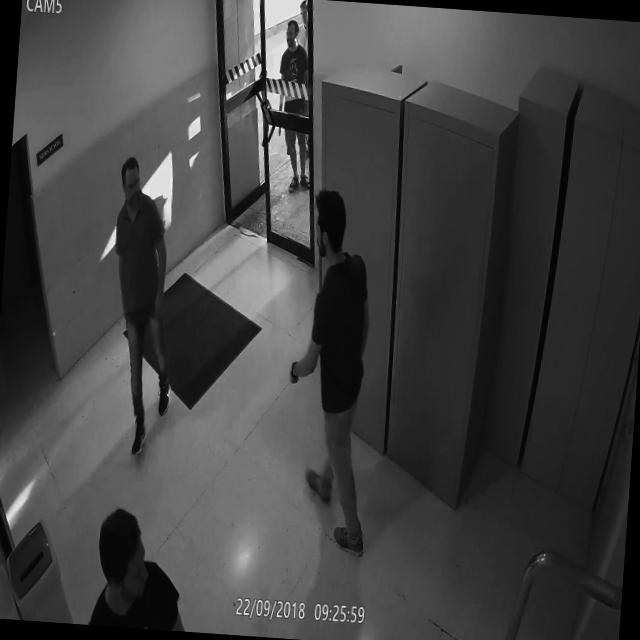gun: (274, 102, 283, 146)
person: (284, 183, 400, 560), (98, 152, 189, 460), (88, 500, 186, 630), (293, 0, 320, 68)
person with a gun: (270, 14, 328, 196)
